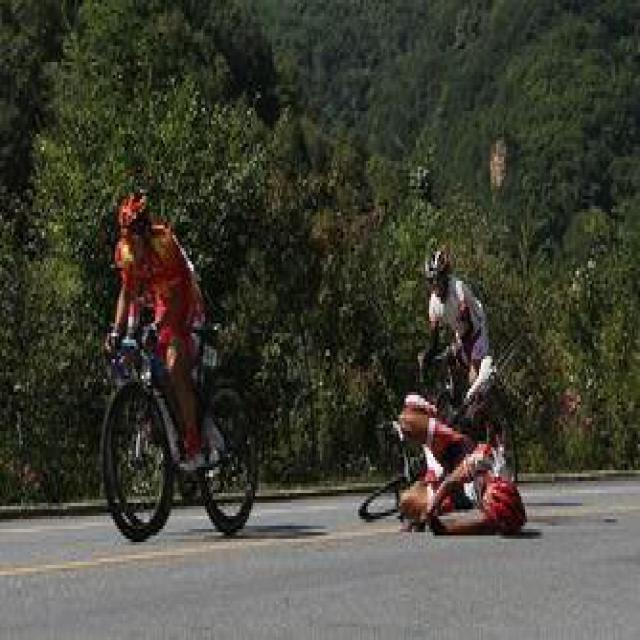fall: (360, 366, 533, 542)
nonfall: (108, 144, 258, 442), (414, 241, 529, 415)
